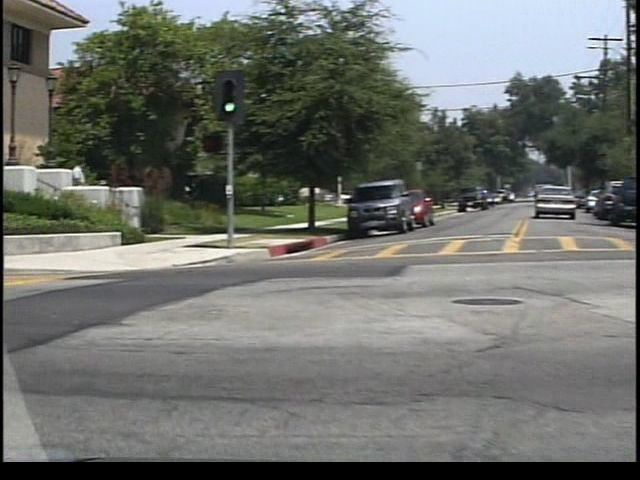person: (61, 152, 81, 216)
